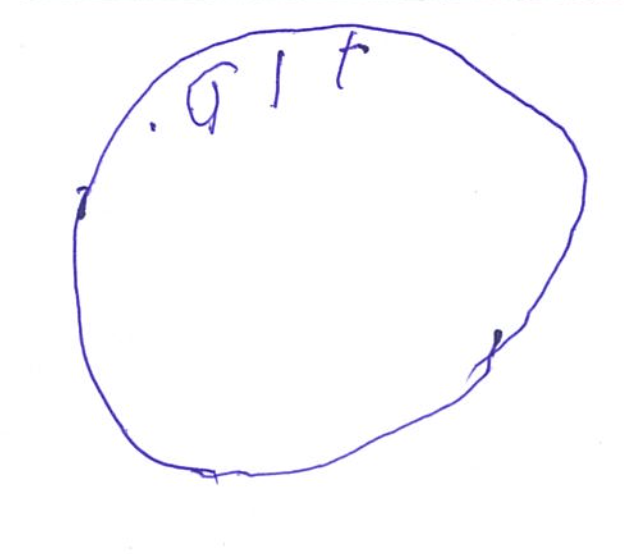contour: (67, 18, 596, 485)
